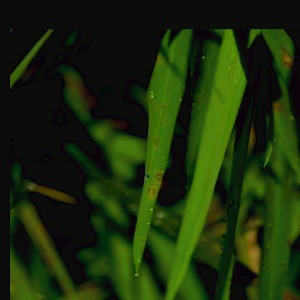Brown_Spot: (152, 164, 173, 187)
